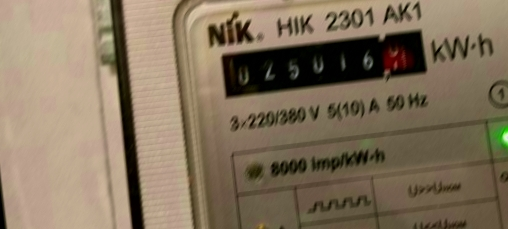0: (311, 49, 327, 73), (236, 62, 251, 85), (386, 35, 400, 56)
1: (335, 45, 349, 71), (390, 58, 400, 70)
2: (261, 56, 277, 80)
5: (286, 56, 300, 78)
6: (360, 45, 375, 71)
screen: (210, 18, 438, 105)
